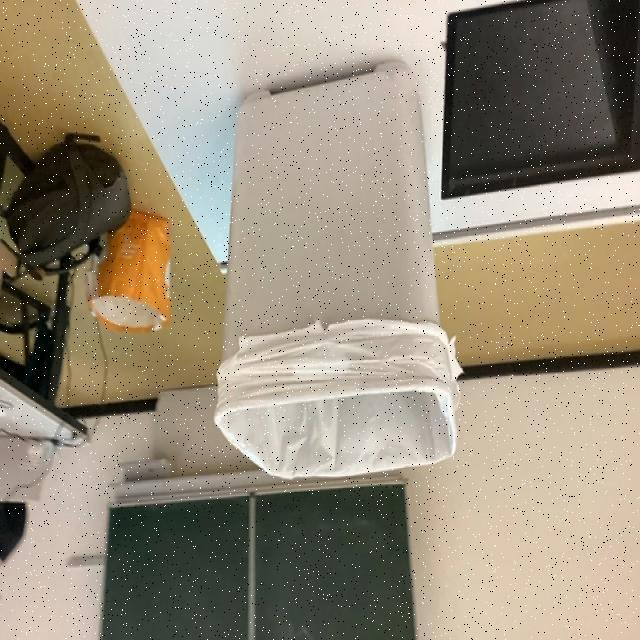garbage container: (185, 52, 498, 551)
